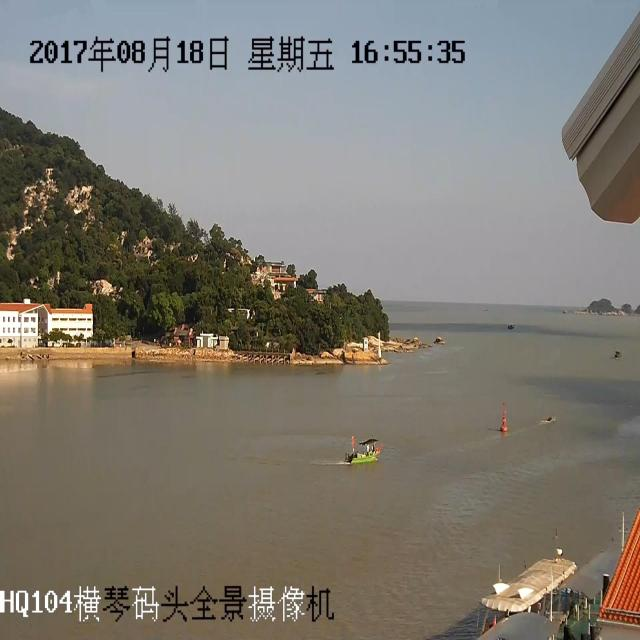buoy: (492, 393, 518, 436)
fishing boat: (335, 421, 390, 473)
reef: (572, 280, 638, 319)
